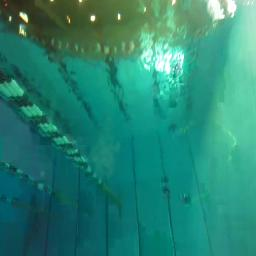Full: (162, 184, 170, 196)
front: (178, 193, 192, 205)
